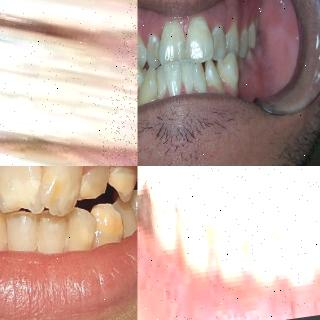maligned: (158, 22, 186, 64), (110, 197, 138, 239), (186, 19, 211, 60), (208, 22, 232, 58), (219, 56, 242, 88), (138, 68, 156, 106), (164, 60, 184, 94), (192, 59, 208, 100), (142, 34, 162, 66), (180, 59, 194, 97), (138, 29, 148, 63), (239, 31, 249, 53), (138, 60, 142, 96)
